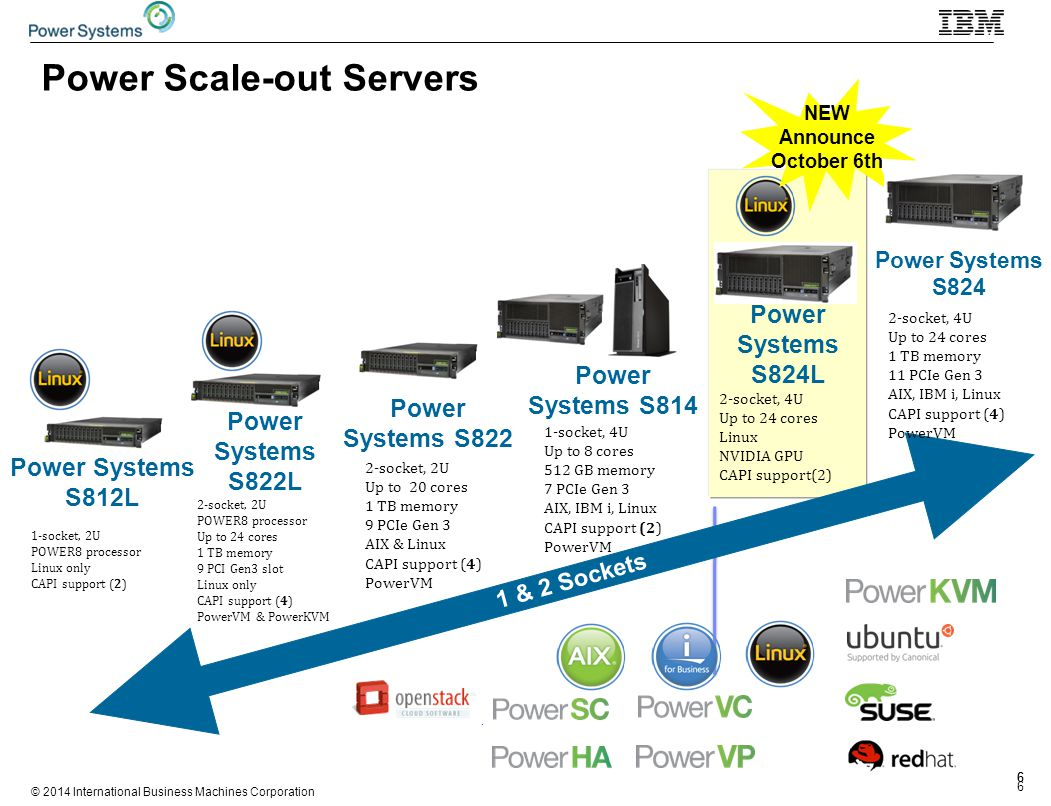ibm-server: (878, 166, 1030, 239), (710, 237, 859, 305), (488, 286, 608, 357), (607, 259, 684, 363), (179, 369, 328, 411), (353, 339, 481, 386), (27, 415, 177, 455)
